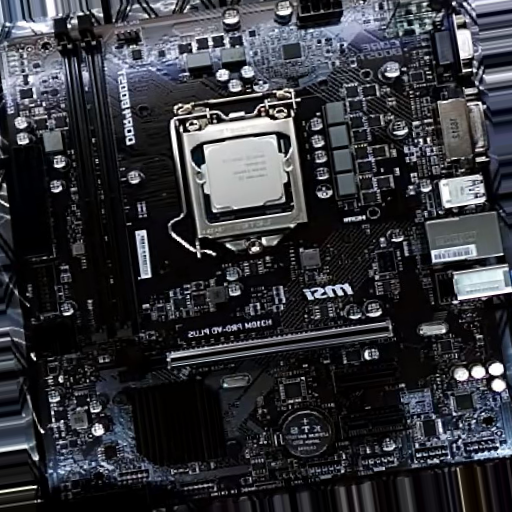CPU: (180, 88, 307, 256)
GPU: (121, 320, 395, 381)
MOTHERBOARD: (4, 2, 512, 497)
RAM: (52, 15, 138, 327)
